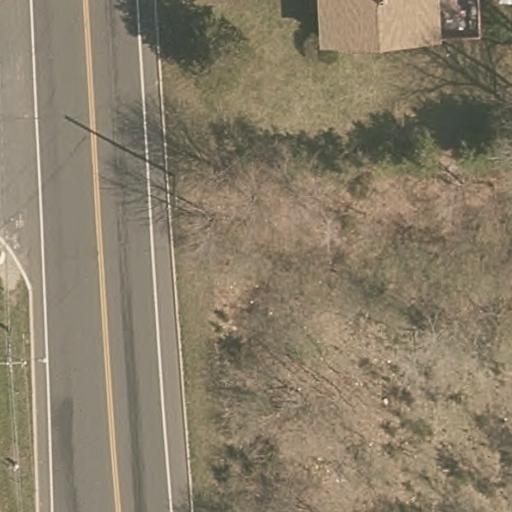DT: (1, 326, 51, 386)
